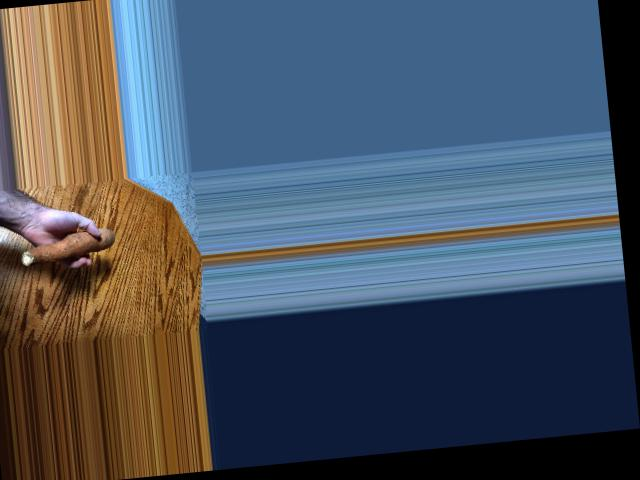sweet_potato: (21, 227, 114, 263)
